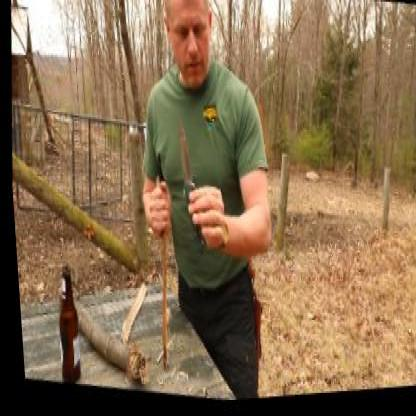knife: (162, 104, 217, 243)
